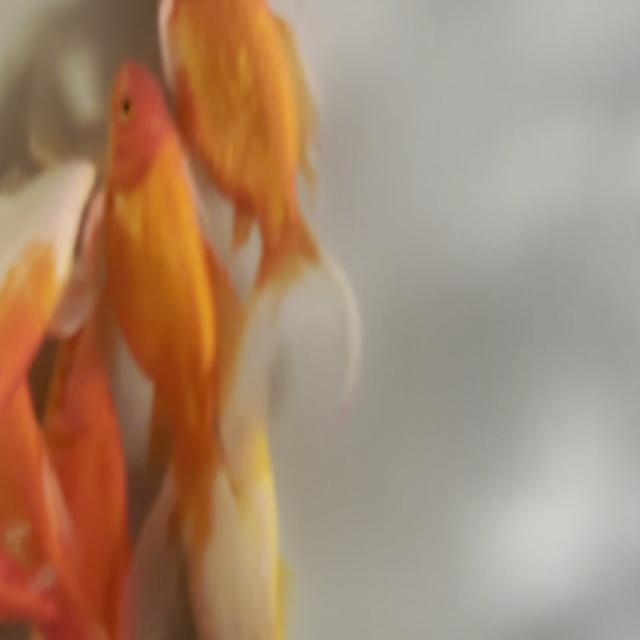fish: (92, 55, 234, 524), (154, 0, 344, 328), (12, 279, 151, 640), (0, 150, 100, 511), (178, 379, 300, 640), (0, 479, 80, 640)
